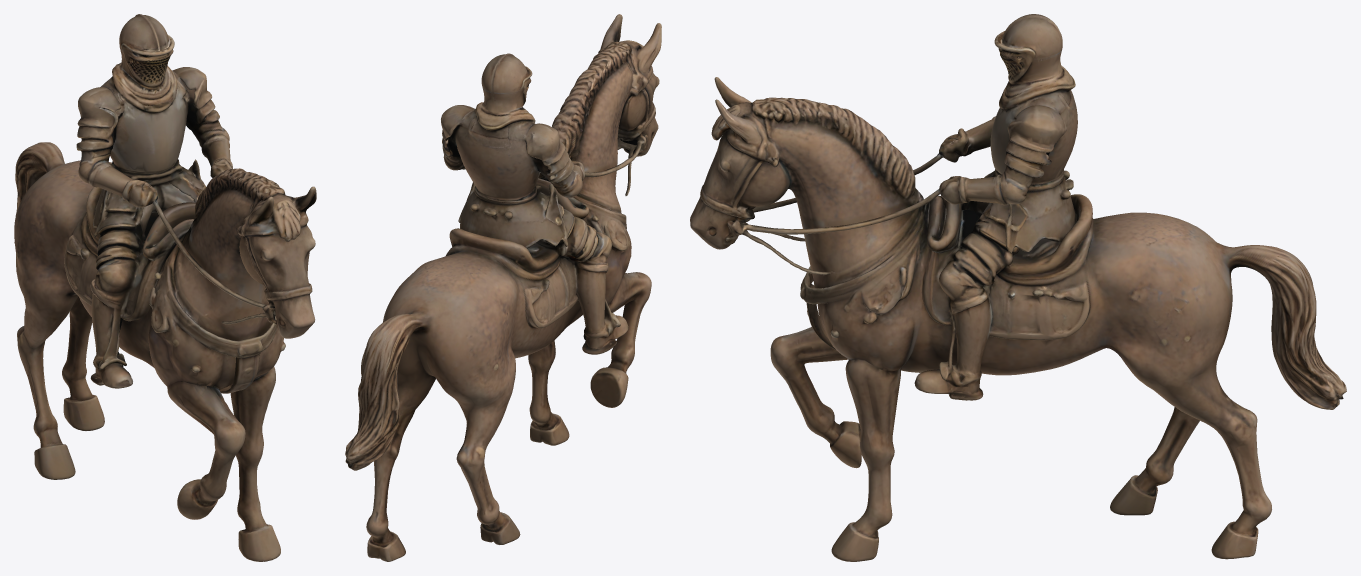
File: plaza-statue-knight.glb
3 renders of one model, left to right at view 1: azimuth 30°, elevation 25°; view 2: azimuth 150°, elevation 25°; view 3: azimuth 270°, elevation 25°, orthographic. The views are drawn at different scales.
Parts seen in each view (by area): view 1: tripo_node_88fc67d8-5b49-4190-81de-130398802845; view 2: tripo_node_88fc67d8-5b49-4190-81de-130398802845; view 3: tripo_node_88fc67d8-5b49-4190-81de-130398802845.
Boxes of the visible parts, x1=… form: tripo_node_88fc67d8-5b49-4190-81de-130398802845: x1=14, y1=14, x2=316, y2=561; tripo_node_88fc67d8-5b49-4190-81de-130398802845: x1=345, y1=14, x2=661, y2=561; tripo_node_88fc67d8-5b49-4190-81de-130398802845: x1=690, y1=14, x2=1346, y2=561.
Size of the model in its own units: 1.74 by 5 by 5.71.
1 material, 1 textured.
